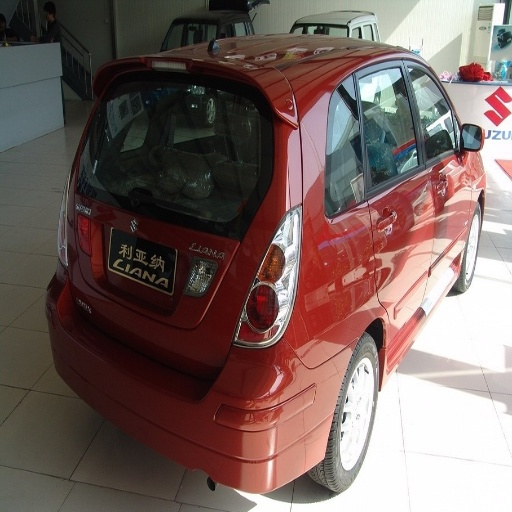back_bumper: (99, 326, 332, 497)
back_glass: (85, 76, 218, 194)
back_right_door: (327, 57, 435, 319)
tailgate: (98, 247, 230, 381)
trunk: (78, 191, 222, 306), (202, 251, 263, 362)
